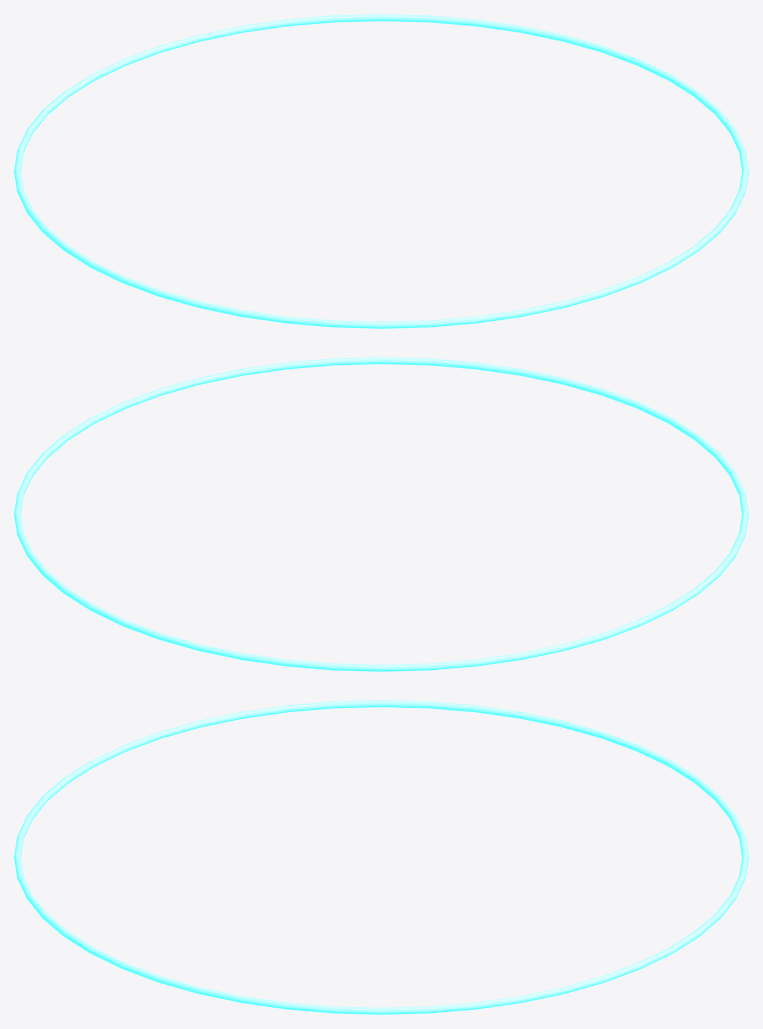
Rendered from çember.fbx.
3 views of the same model, one above another, from view 1: azimuth 30°, elevation 25°; view 2: azimuth 150°, elevation 25°; view 3: azimuth 270°, elevation 25° (orthographic).
Parts seen in each view (by area): view 1: Torus; view 2: Torus; view 3: Torus.
Part boxes in pixels (x1,y1,x2,y2): Torus: [14, 14, 748, 328]; Torus: [14, 357, 748, 671]; Torus: [14, 700, 748, 1014].
Bounding box in the file's own units: 202 × 1.89 × 202.
